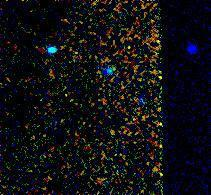star: (109, 30, 139, 60)
